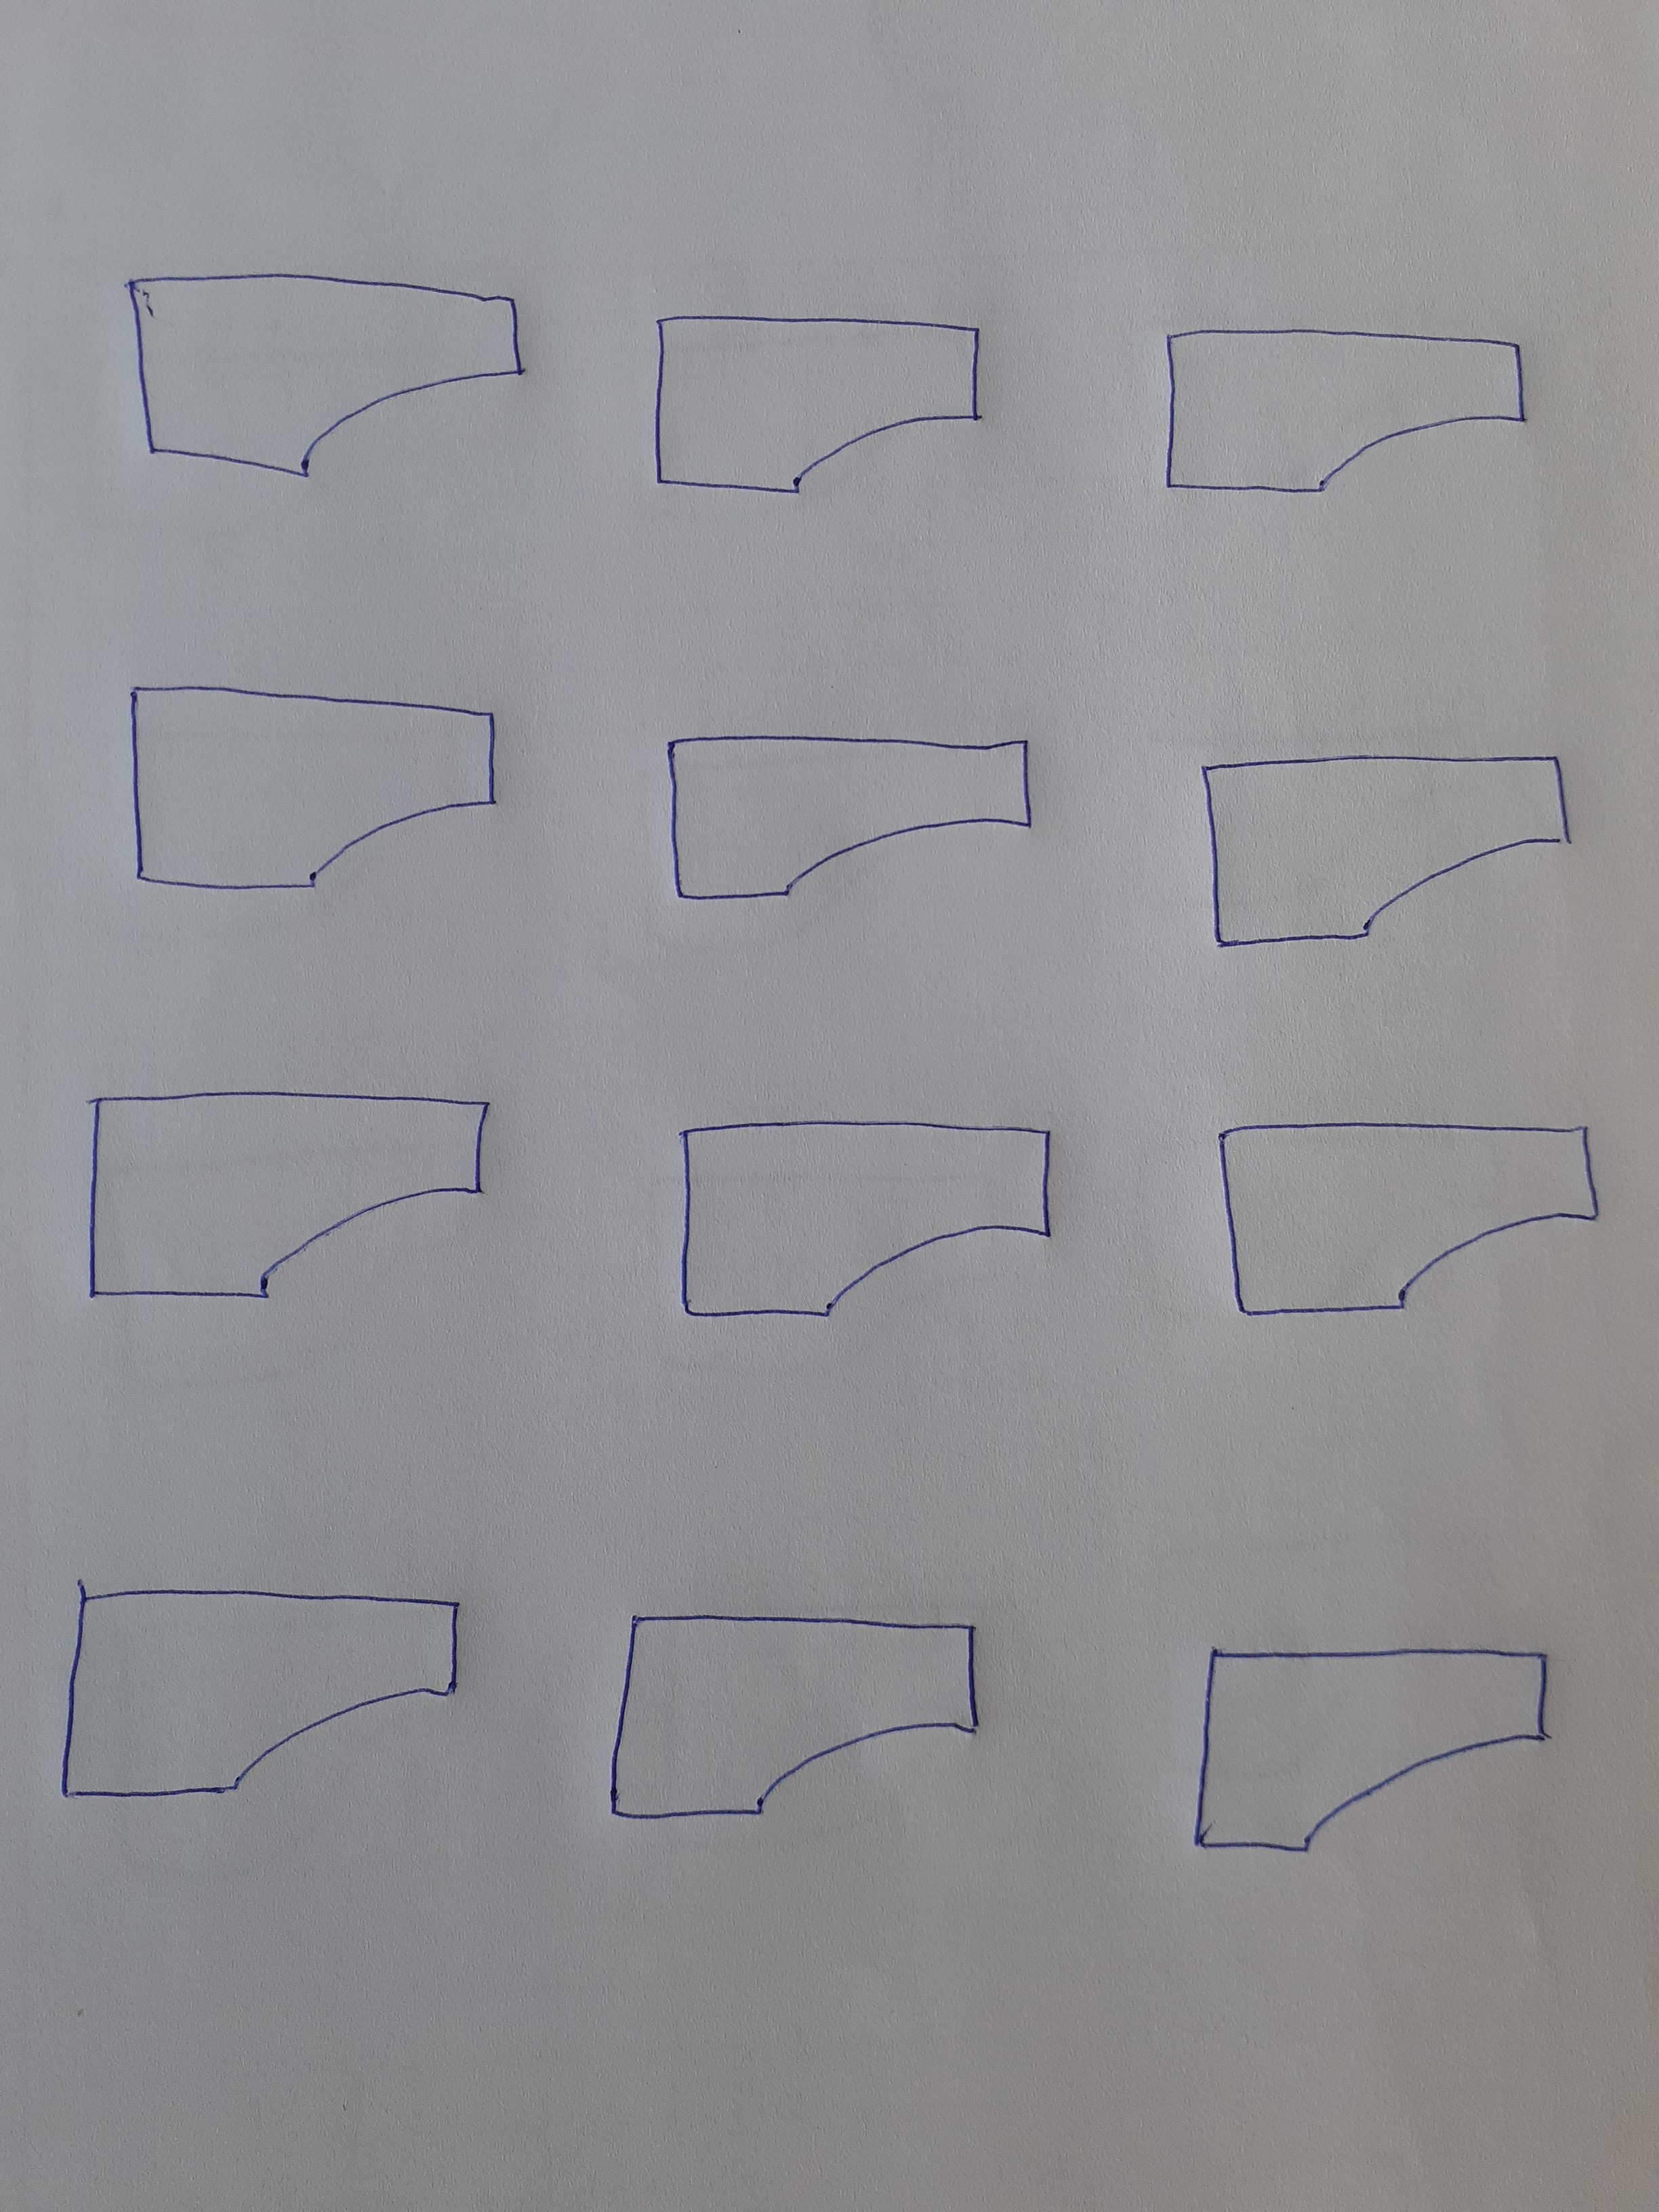print: (21, 1533, 516, 1926), (71, 644, 530, 981), (106, 225, 566, 557), (591, 1571, 1037, 1888), (1166, 1576, 1589, 1898), (71, 1082, 545, 1357), (645, 676, 1112, 948), (641, 1096, 1108, 1367), (1143, 272, 1567, 561), (1194, 1103, 1617, 1367), (1187, 730, 1596, 995), (634, 260, 1014, 519)
